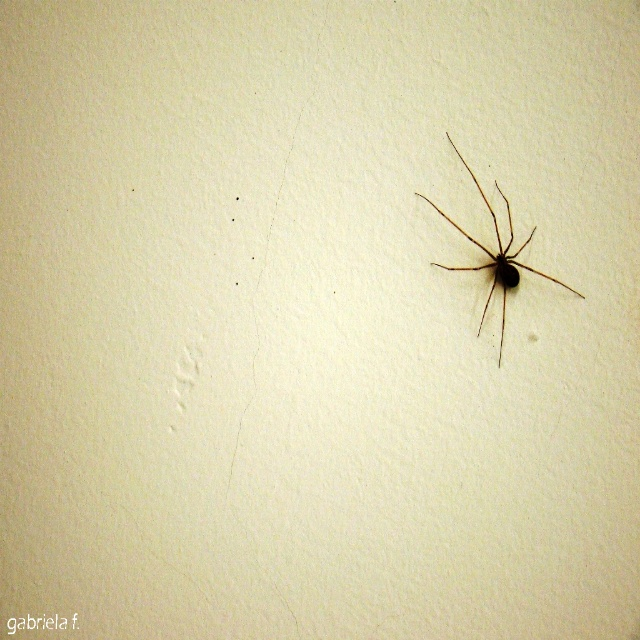Spider: (414, 131, 586, 376)
